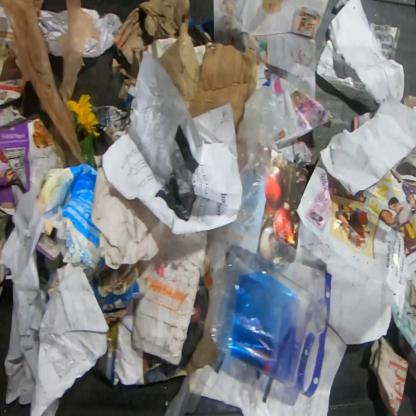cardboard: (112, 0, 257, 133), (132, 230, 208, 366), (36, 163, 112, 268), (0, 105, 69, 214), (0, 0, 25, 110), (35, 233, 67, 260)
soft_plastic: (210, 235, 333, 398), (0, 0, 101, 164), (207, 86, 290, 270)
